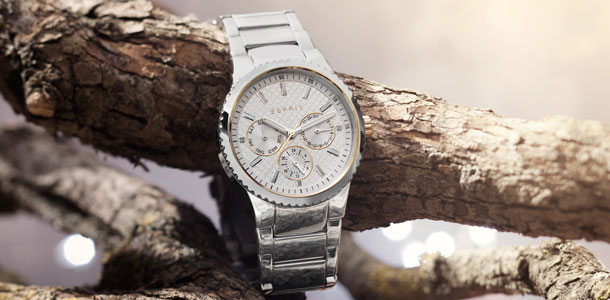clock: (230, 71, 354, 197)
